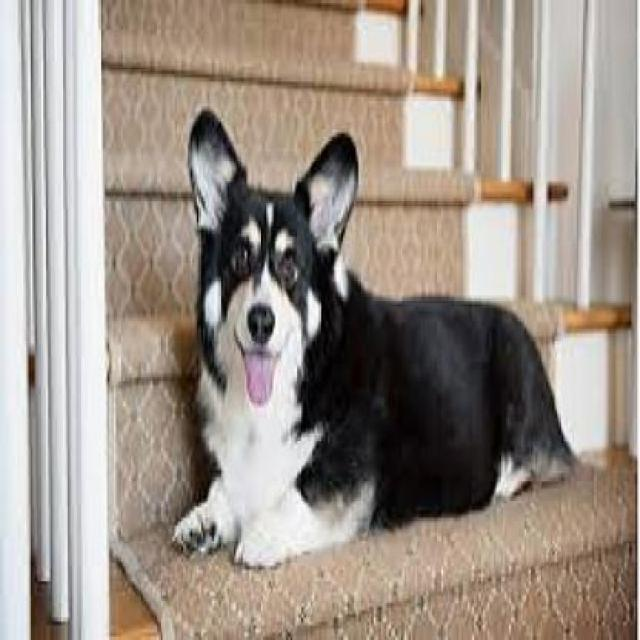Dog: (169, 104, 582, 570)
